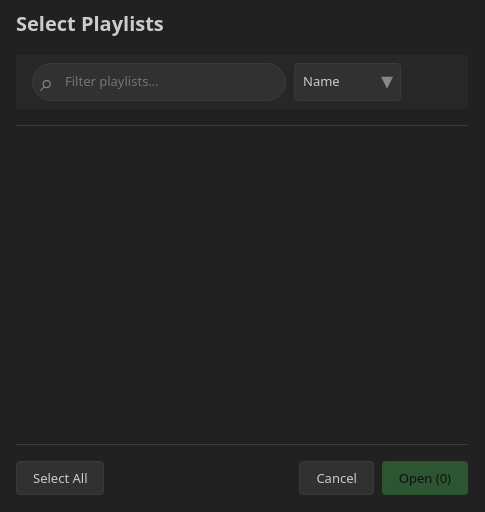
Test case: PlaylistSelectModal › search filters playlists by name
In the search field with placeholder "Filter playlists…": (159, 82) left=32, top=63, right=286, bottom=100, type "blues"
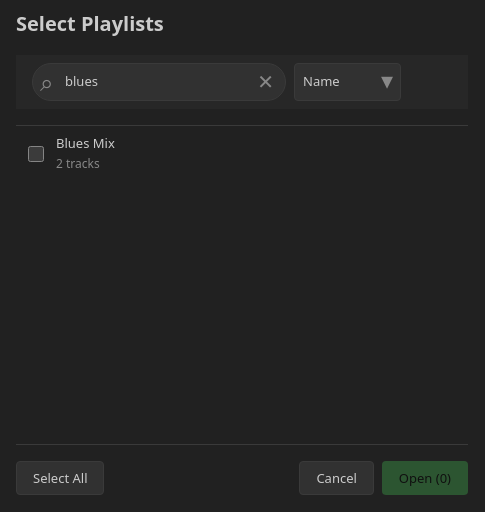
Expected: the text "Blues Mix" is shown, left=56, top=134, right=115, bottom=152
Expected: the number of elements with class "selectable-item" is 1, left=28, top=134, right=115, bottom=172
